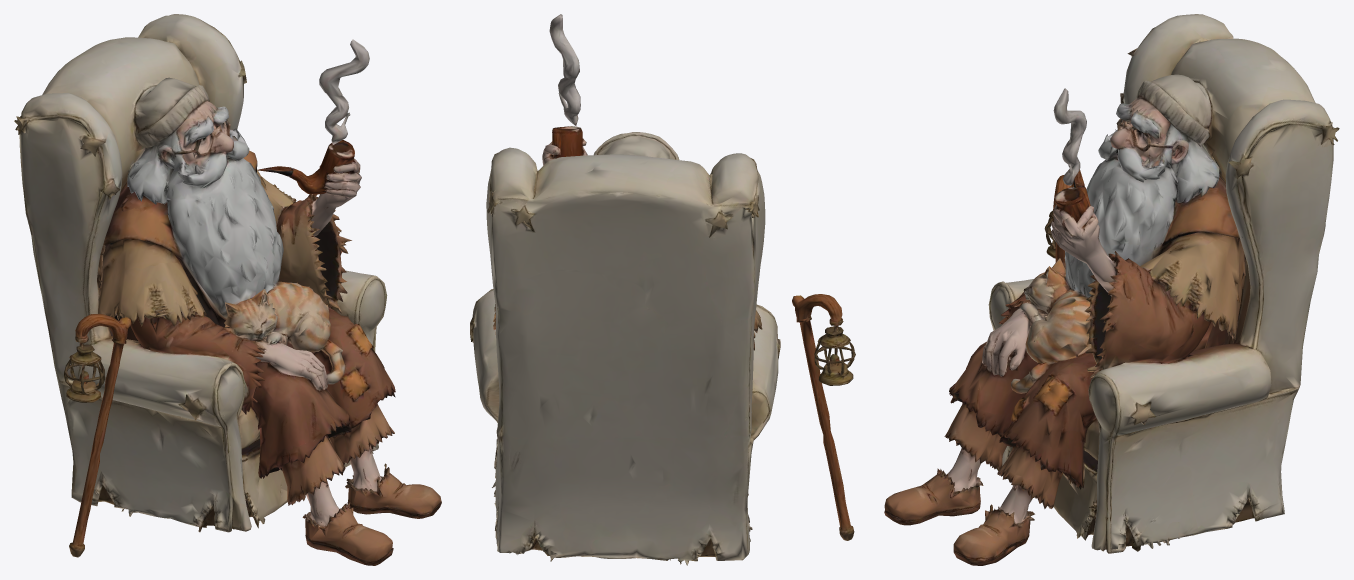
The model's file is chr_keeper_awake_a_v1.glb.
The picture shows the model from 3 angles, left to right: view 1: azimuth 30°, elevation 25°; view 2: azimuth 150°, elevation 25°; view 3: azimuth 270°, elevation 25°; orthographic projection. The views are drawn at different scales.
Parts seen in each view (by area): view 1: tripo_node_8fb72b52-097a-40ce-9f73-4cddfa865cd5; view 2: tripo_node_8fb72b52-097a-40ce-9f73-4cddfa865cd5; view 3: tripo_node_8fb72b52-097a-40ce-9f73-4cddfa865cd5.
Part boxes in pixels (x1,y1,x2,y2): tripo_node_8fb72b52-097a-40ce-9f73-4cddfa865cd5: [14, 14, 441, 565]; tripo_node_8fb72b52-097a-40ce-9f73-4cddfa865cd5: [470, 14, 855, 565]; tripo_node_8fb72b52-097a-40ce-9f73-4cddfa865cd5: [884, 14, 1339, 565].
Size of the model in its own units: 0.793 by 0.9824 by 0.8807.
1 material, 1 textured.
